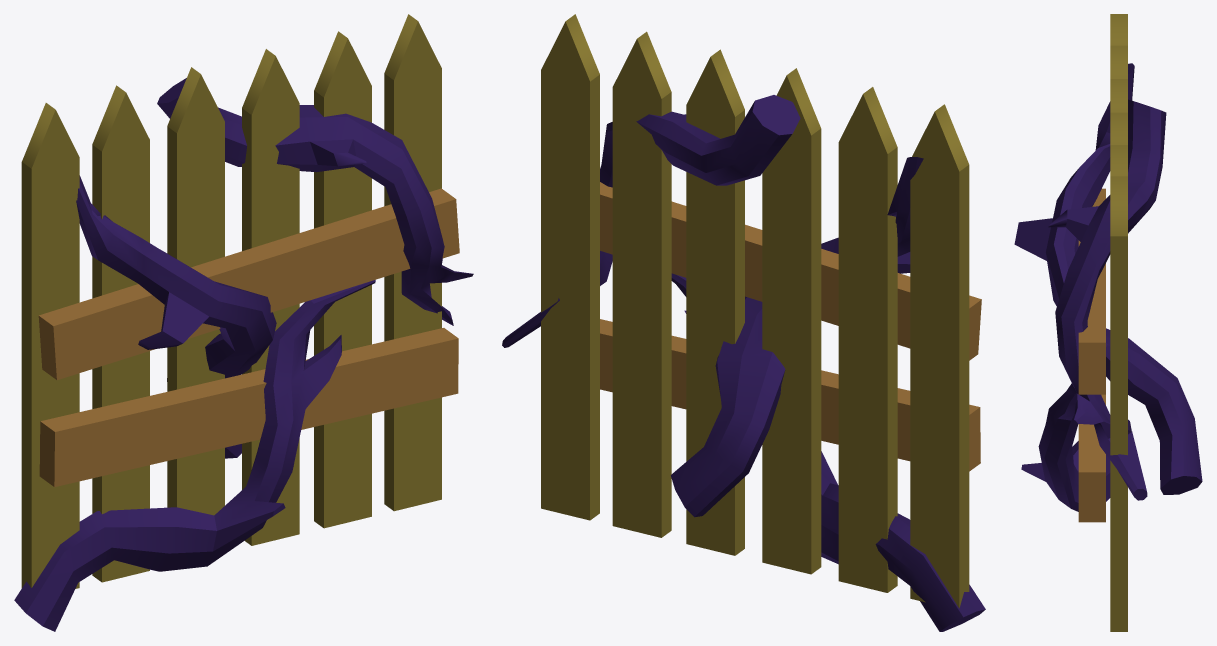
Rendered from Fenceinfected.fbx.
3 views of the same model, side by side, from view 1: azimuth 30°, elevation 25°; view 2: azimuth 150°, elevation 25°; view 3: azimuth 270°, elevation 25° (orthographic). The views are drawn at different scales.
Parts seen in each view (by area): view 1: Fencepost16, BadROOT5, Fencepost10, Fencepost13, Fencepost14, Fencepost15, Fencepost18, BadROOT6, Fencepost17, BadROOT4, Fencepost11; view 2: Fencepost14, Fencepost17, Fencepost18, Fencepost13, Fencepost15, Fencepost11, BadROOT4, BadROOT6, Fencepost10, BadROOT5, Fencepost16; view 3: BadROOT6, BadROOT4, Fencepost14, BadROOT5, Fencepost10, Fencepost16, Fencepost15, Fencepost17, Fencepost11, Fencepost13, Fencepost18.
Part boxes in pixels (box(x1,y1,x2,y2)): Fencepost16: box(39, 328, 458, 486); BadROOT5: box(14, 280, 375, 631); Fencepost10: box(38, 188, 459, 379); Fencepost13: box(21, 103, 79, 588); Fencepost14: box(384, 14, 441, 511); Fencepost15: box(167, 67, 224, 515); Fencepost18: box(314, 31, 371, 528); BadROOT6: box(157, 78, 473, 325); Fencepost17: box(92, 85, 149, 582); BadROOT4: box(76, 175, 276, 458); Fencepost11: box(242, 49, 299, 545); Fencepost14: box(541, 14, 599, 520); Fencepost17: box(838, 87, 897, 592); Fencepost18: box(612, 31, 671, 537); Fencepost13: box(910, 104, 969, 608); Fencepost15: box(762, 68, 821, 574); Fencepost11: box(686, 49, 744, 555); BadROOT4: box(671, 157, 923, 517); BadROOT6: box(502, 95, 800, 347); Fencepost10: box(600, 182, 981, 360); BadROOT5: box(671, 273, 985, 631); Fencepost16: box(600, 319, 980, 471); BadROOT6: box(1048, 99, 1166, 500); BadROOT4: box(1014, 63, 1202, 494); Fencepost14: box(1110, 176, 1127, 631); BadROOT5: box(1021, 383, 1131, 511); Fencepost10: box(1078, 188, 1105, 394); Fencepost16: box(1078, 394, 1105, 522); Fencepost15: box(1110, 79, 1127, 112); Fencepost17: box(1110, 45, 1127, 78); Fencepost11: box(1110, 112, 1127, 144); Fencepost13: box(1110, 14, 1127, 45); Fencepost18: box(1110, 145, 1127, 176).
Size of the model in its own units: 3.93 by 4.31 by 1.54.
